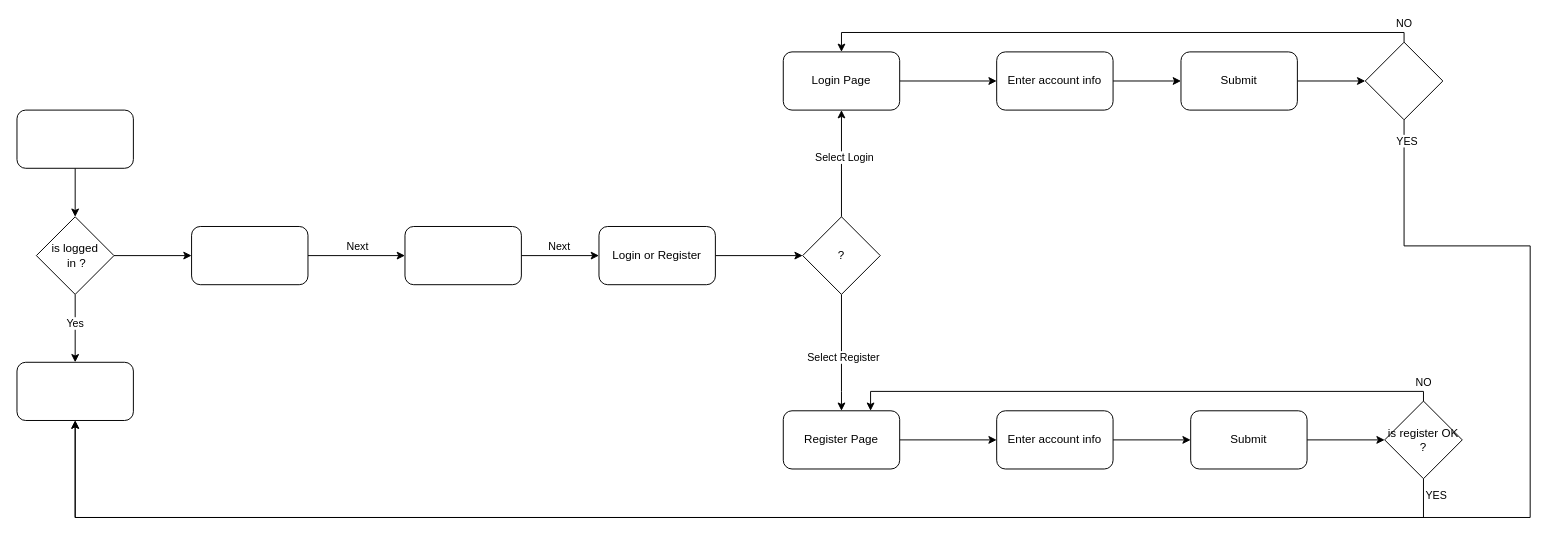
This 1555x542 diagram has some shape labels left out. Here are the shapes that lost their labels. From the top down, the centre of each, then its label:
(x=1403, y=80): is login OK ?
(x=74, y=138): Opens the App
(x=249, y=255): Open Welcome Modal
(x=462, y=255): Encryption Presentation
(x=74, y=390): Display Homepage
